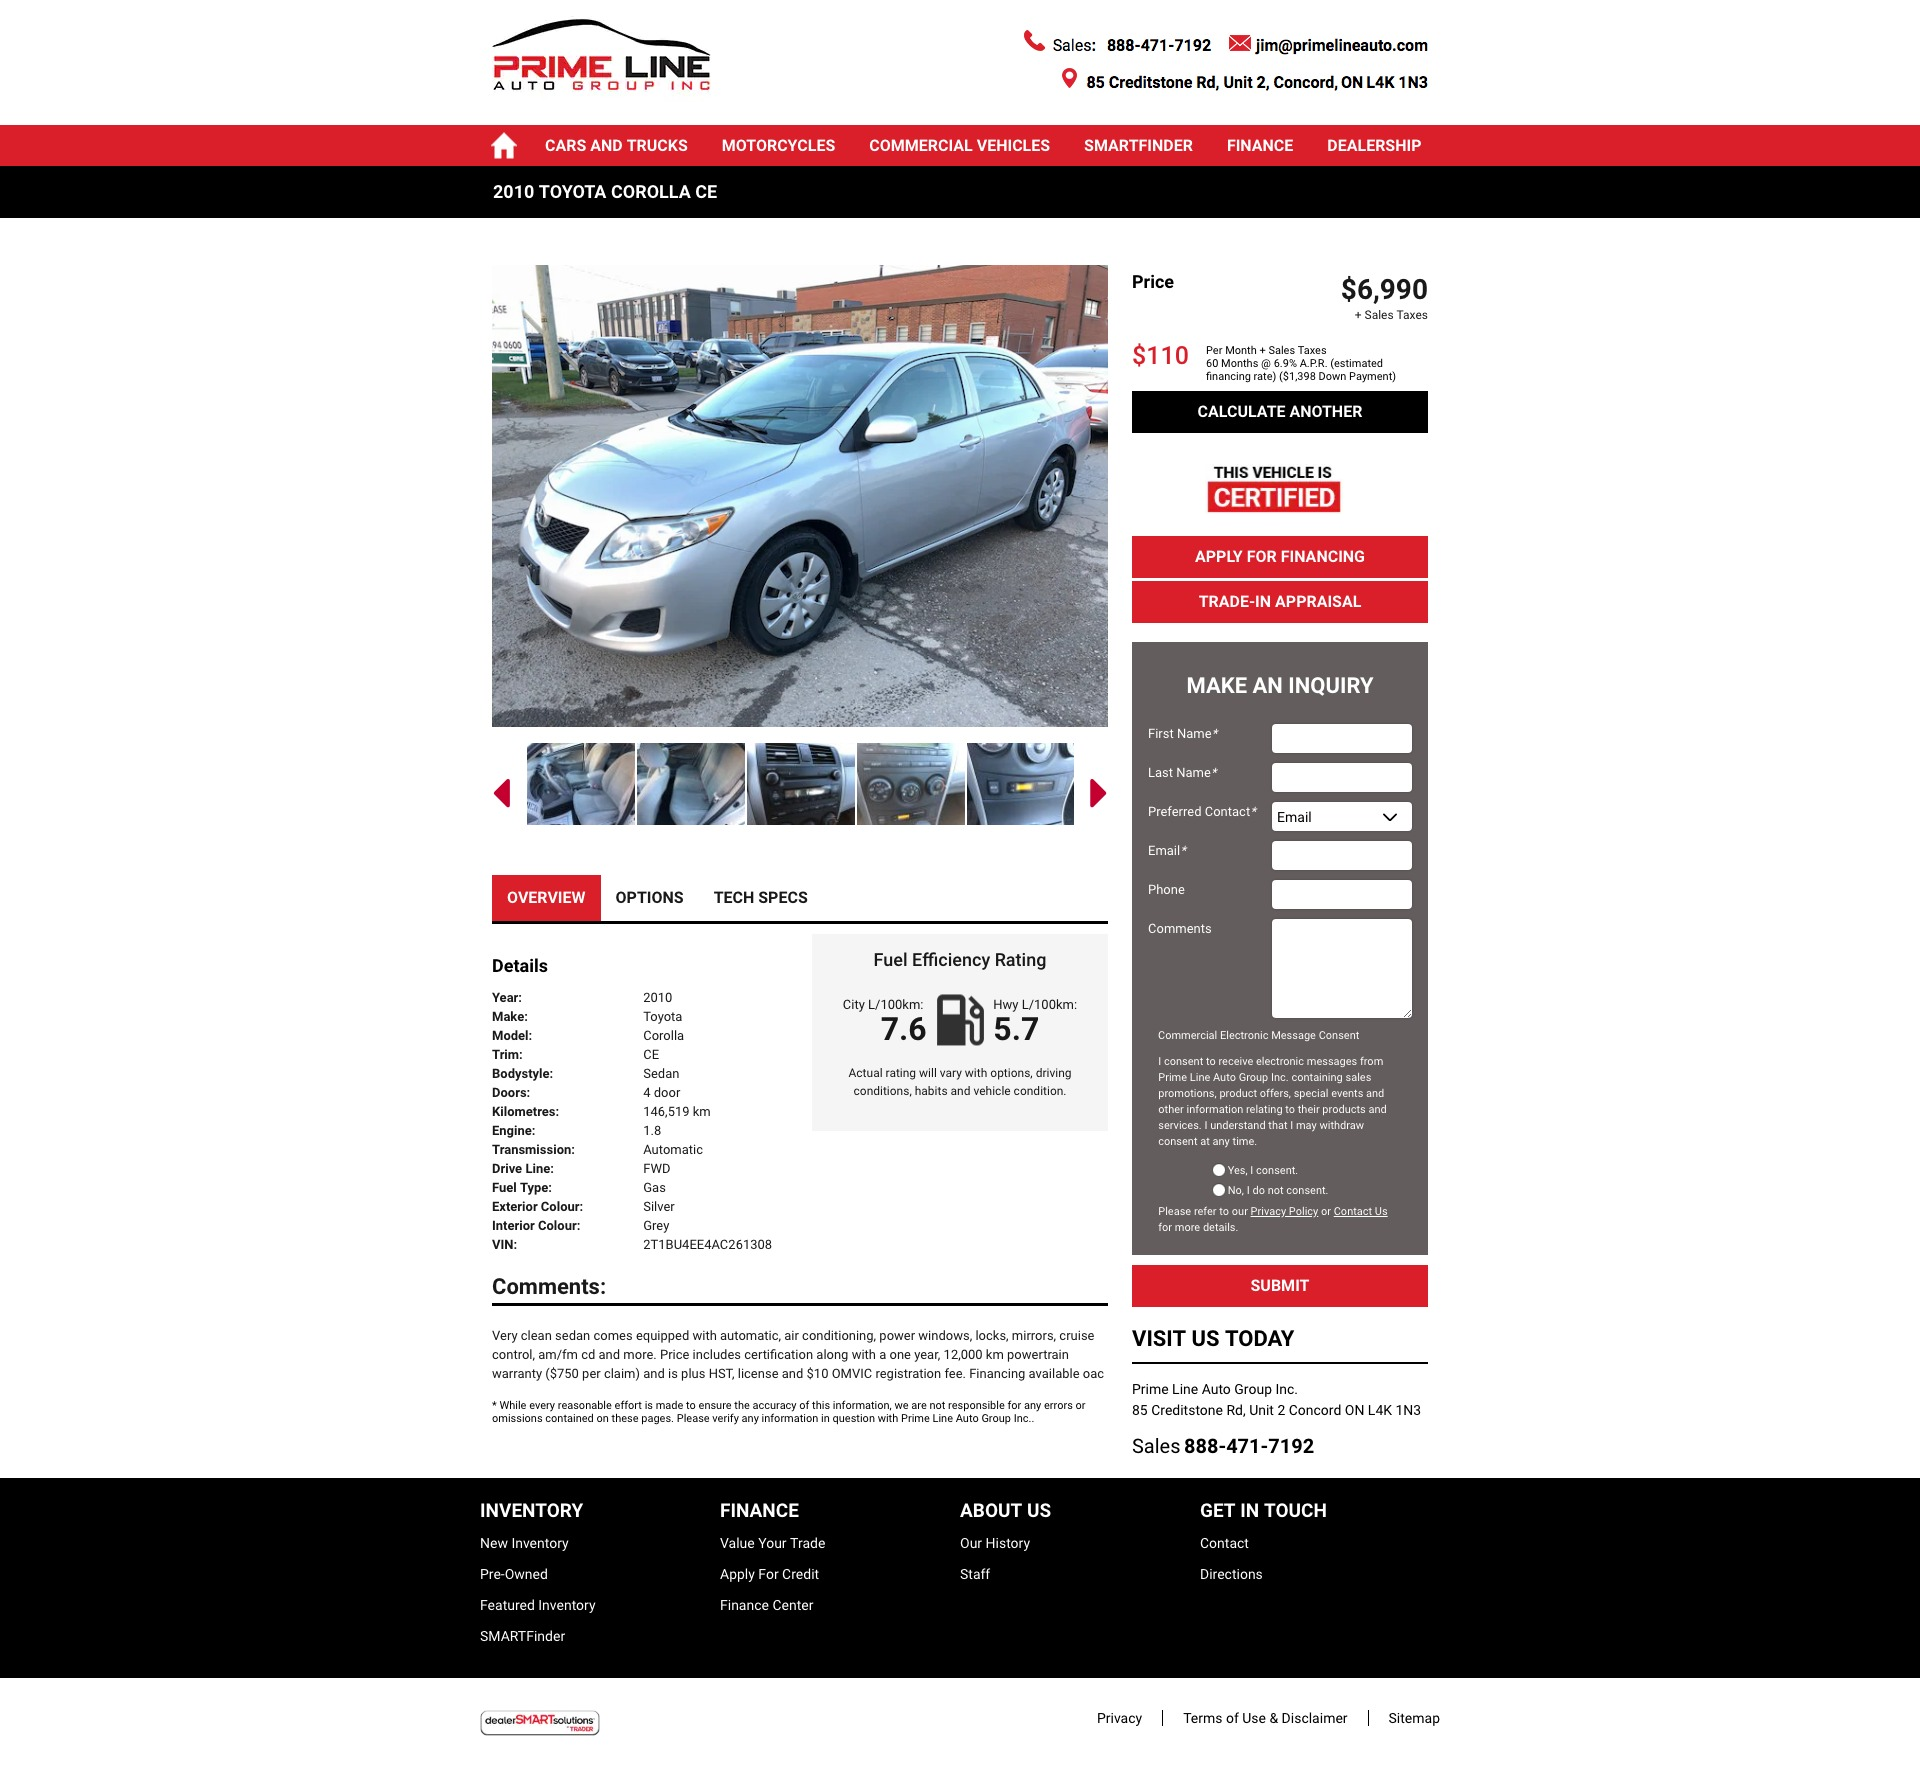car: (1090, 780, 1108, 810)
